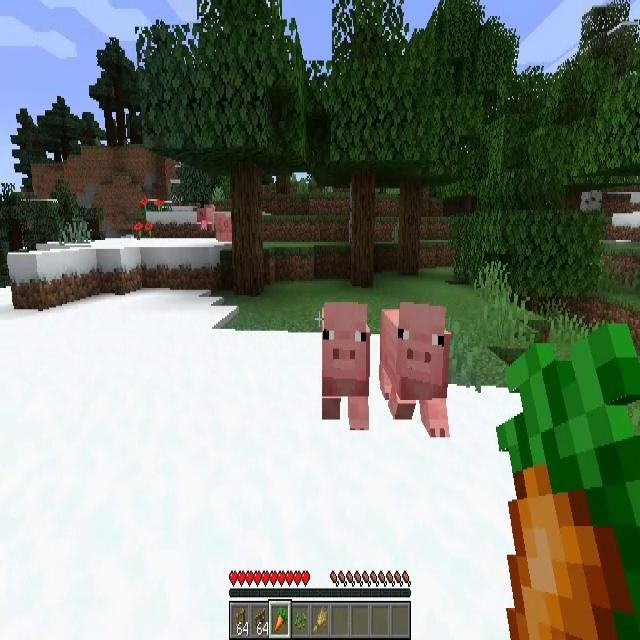pig: (378, 304, 452, 440), (321, 300, 370, 434), (214, 210, 231, 242), (197, 206, 214, 232)
